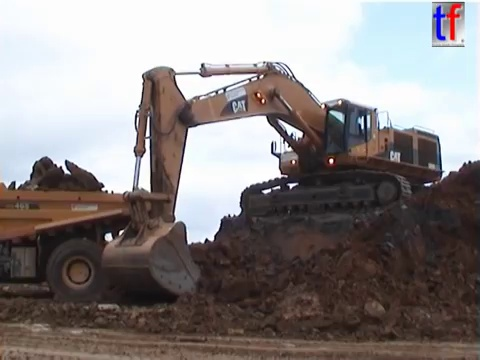excavator: (97, 57, 450, 305)
truck: (1, 178, 176, 306)
